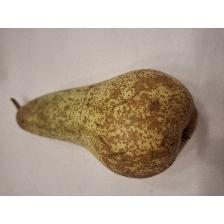Birne: (7, 63, 201, 184)
